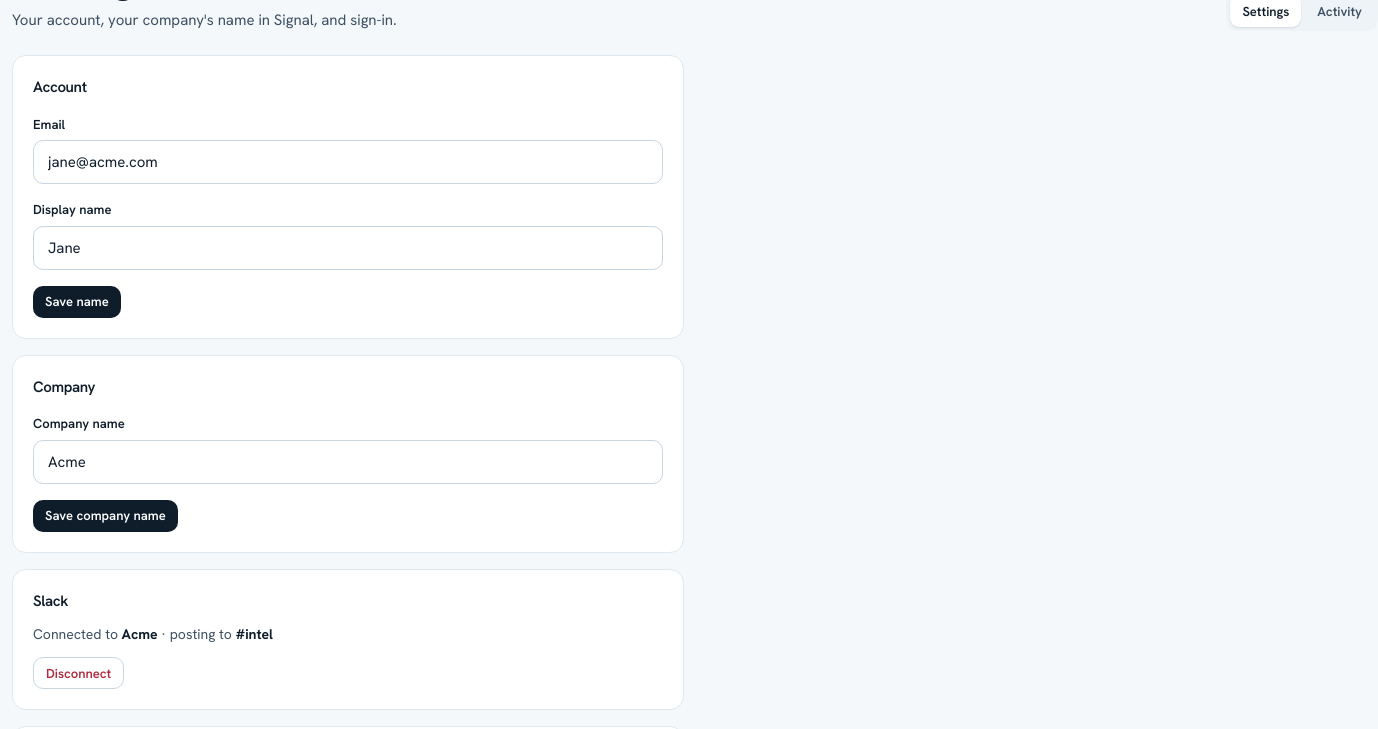
Settings page › Slack › shows the connected team and channel, and disconnects
Expected: the text "Acme" is shown, [122,625,158,643]
Expected: the text "#intel" is shown, [236,625,273,643]
Click the button "Disconnect": (79, 673) [33,657,124,689]
(page scrolled)
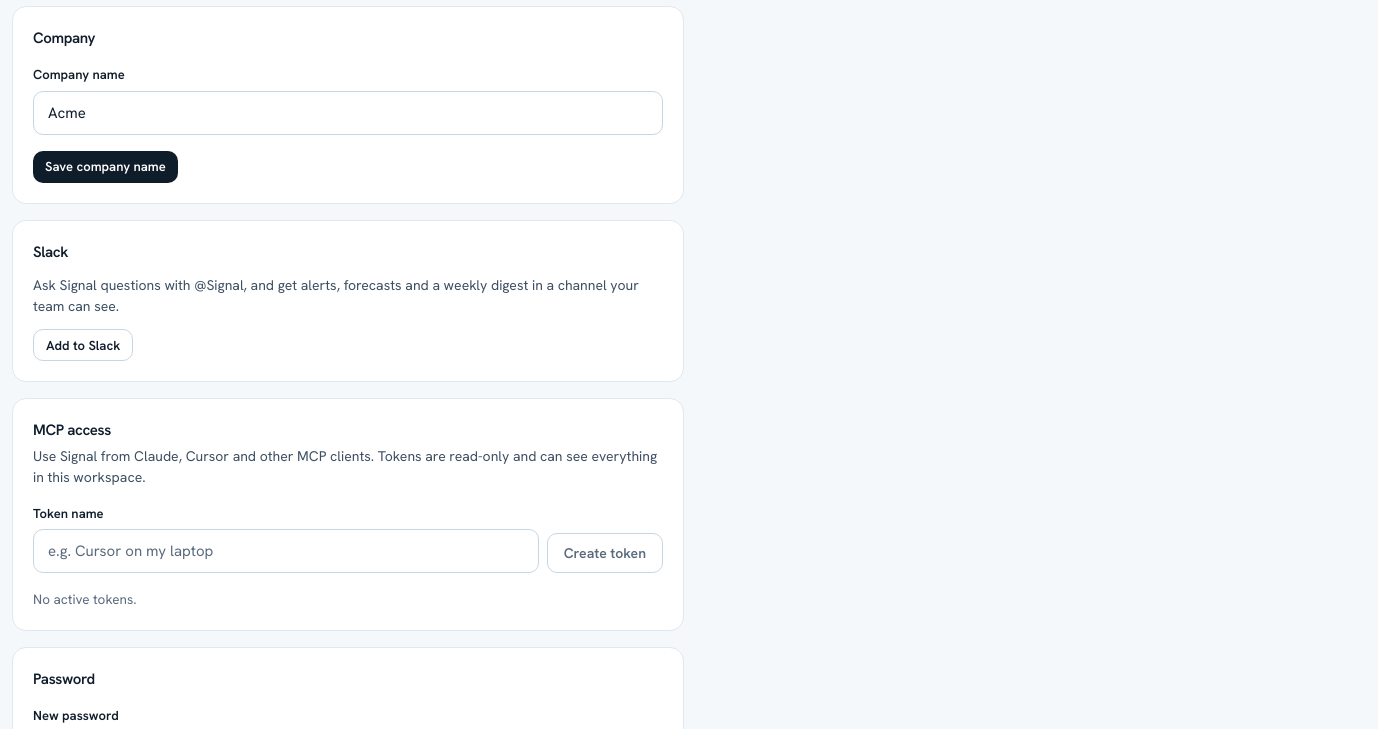
Now the button "Add to Slack" is shown, box [33,329,133,361]
